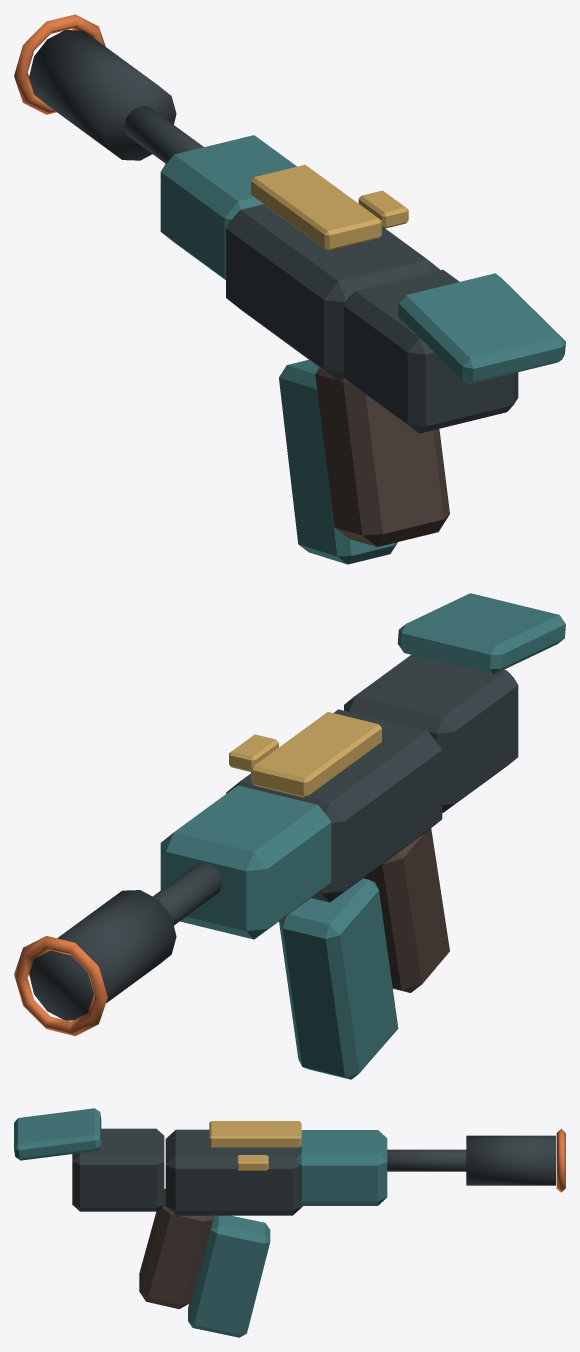
The model's file is SMG.glb.
3 views of the same model, one above another, from view 1: azimuth 30°, elevation 25°; view 2: azimuth 150°, elevation 25°; view 3: azimuth 270°, elevation 25° (orthographic). The views are drawn at different scales.
Visible parts, largest first — view 1: Receiver, Grip, Rear block, Folding stock, Suppressor, Front handguard, Magazine, Top rail, Barrel, Muzzle ring, Charging handle; view 2: Front handguard, Magazine, Receiver, Rear block, Suppressor, Folding stock, Grip, Top rail, Muzzle ring, Barrel, Charging handle; view 3: Receiver, Magazine, Rear block, Front handguard, Grip, Suppressor, Folding stock, Top rail, Barrel, Muzzle ring, Charging handle.
Boxes of the visible parts, <box> form: Receiver: <box>226,204,440,381</box>; Grip: <box>315,367,449,546</box>; Rear block: <box>344,269,518,433</box>; Folding stock: <box>397,273,565,384</box>; Suppressor: <box>29,30,176,160</box>; Front handguard: <box>160,135,296,279</box>; Magazine: <box>279,360,397,564</box>; Top rail: <box>251,164,381,250</box>; Barrel: <box>124,106,203,163</box>; Muzzle ring: <box>14,14,105,114</box>; Charging handle: <box>358,190,408,228</box>; Front handguard: <box>160,785,331,939</box>; Magazine: <box>279,878,398,1079</box>; Receiver: <box>226,709,442,902</box>; Rear block: <box>344,655,518,812</box>; Suppressor: <box>29,890,176,1020</box>; Folding stock: <box>397,593,565,674</box>; Grip: <box>363,828,449,992</box>; Top rail: <box>251,712,381,797</box>; Muzzle ring: <box>14,936,107,1036</box>; Barrel: <box>153,862,222,925</box>; Charging handle: <box>229,734,278,771</box>; Receiver: <box>165,1129,302,1215</box>; Magazine: <box>188,1215,270,1337</box>; Rear block: <box>72,1128,164,1211</box>; Front handguard: <box>296,1130,387,1205</box>; Grip: <box>139,1188,213,1308</box>; Suppressor: <box>466,1135,555,1185</box>; Folding stock: <box>14,1108,101,1160</box>; Top rail: <box>209,1121,301,1147</box>; Barrel: <box>387,1149,466,1171</box>; Muzzle ring: <box>556,1128,565,1192</box>; Charging handle: <box>237,1155,268,1170</box>.
Size of the model in its own units: 0.36 by 0.8799 by 2.09.
